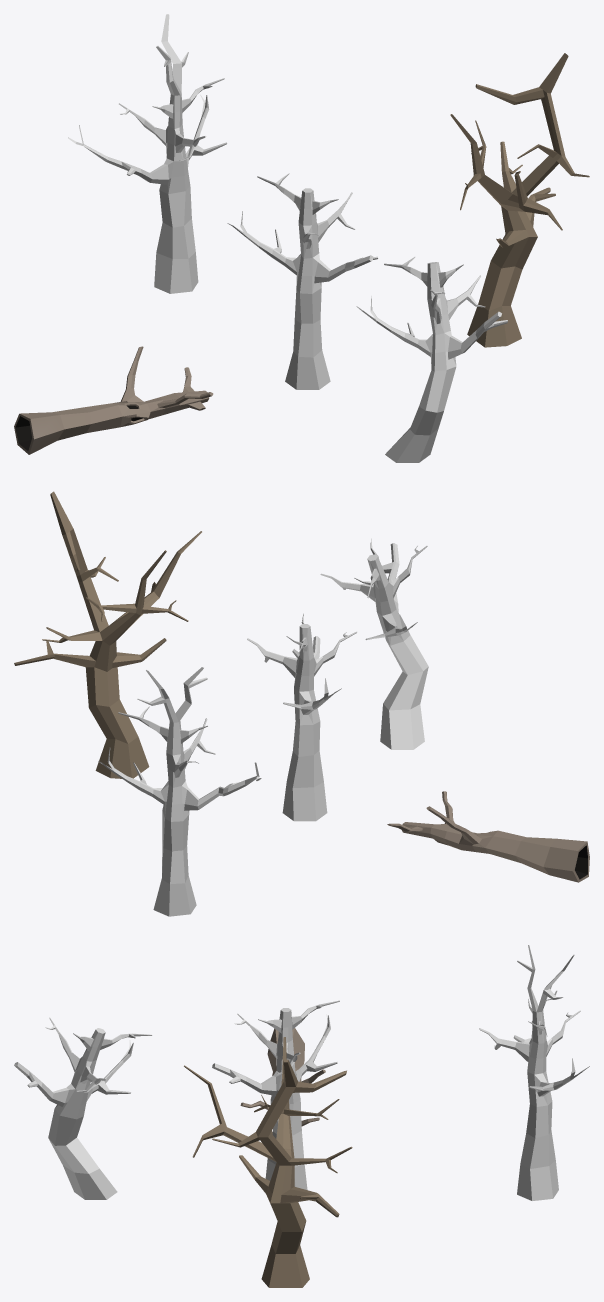
File: ArvoresFloresta (1).fbx
3 renders of one model, top to bottom at view 1: azimuth 30°, elevation 25°; view 2: azimuth 150°, elevation 25°; view 3: azimuth 270°, elevation 25°, orthographic. The views are drawn at different scales.
Visible parts, largest first — view 1: Arvore05, Arvore01.001, Arvore01, Arvore02, Arvore04; view 2: Arvore05, Arvore01.001, Arvore02, Arvore01, Arvore04; view 3: Arvore05, Arvore01.001, Arvore02, Arvore01, Arvore04.
Part boxes in pixels (box(x1,y1,x2,y2)): Arvore05: box(450, 53, 589, 347); Arvore01.001: box(68, 14, 226, 293); Arvore01: box(227, 173, 377, 389); Arvore02: box(356, 257, 507, 462); Arvore04: box(14, 346, 213, 454); Arvore05: box(14, 491, 201, 778); Arvore01.001: box(98, 667, 261, 916); Arvore02: box(320, 538, 428, 749); Arvore01: box(247, 613, 357, 821); Arvore04: box(387, 791, 589, 882); Arvore05: box(184, 1037, 352, 1287); Arvore01.001: box(479, 945, 589, 1200); Arvore02: box(14, 1017, 152, 1199); Arvore01: box(212, 1000, 339, 1189); Arvore04: box(240, 1028, 325, 1132).
Size of the model in its own units: 1790 by 818 by 1689.
